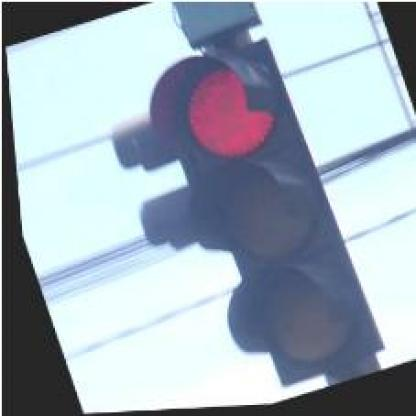red: (130, 26, 383, 406)
